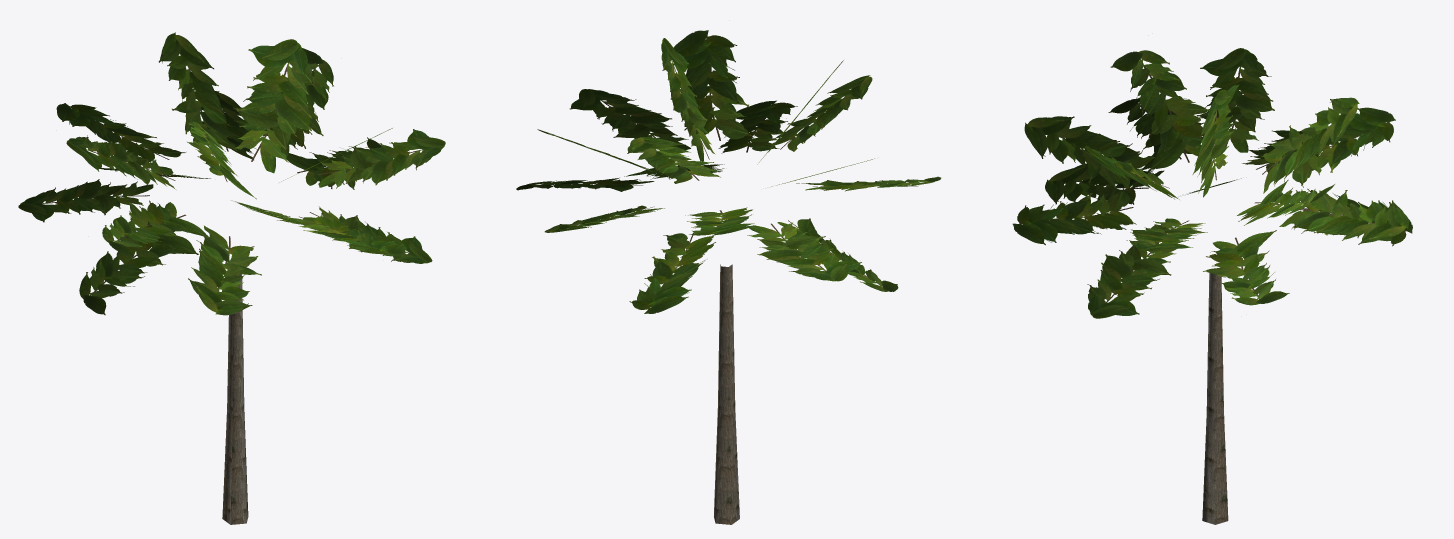
Rendered from tree_0_far.glb.
The picture shows the model from 3 angles, left to right: view 1: azimuth 30°, elevation 25°; view 2: azimuth 150°, elevation 25°; view 3: azimuth 270°, elevation 25°; orthographic projection. The views are drawn at different scales.
Visible parts, largest first — view 1: TreeFar; view 2: TreeFar; view 3: TreeFar.
Part boxes in pixels (x1=…): TreeFar: x1=18, y1=32, x2=445, y2=524; TreeFar: x1=516, y1=30, x2=941, y2=524; TreeFar: x1=1012, y1=48, x2=1412, y2=524.
Size of the model in its own units: 9.79 by 11.56 by 9.94.
2 materials, 2 textured.
